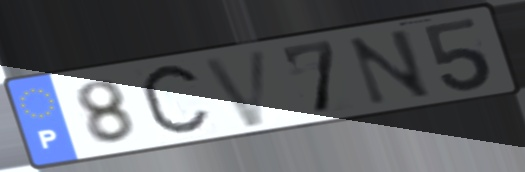5: (422, 14, 496, 94)
7: (278, 37, 341, 118)
8: (71, 77, 139, 145)
C: (136, 59, 215, 143)
N: (345, 26, 436, 109)
V: (198, 45, 273, 131)
